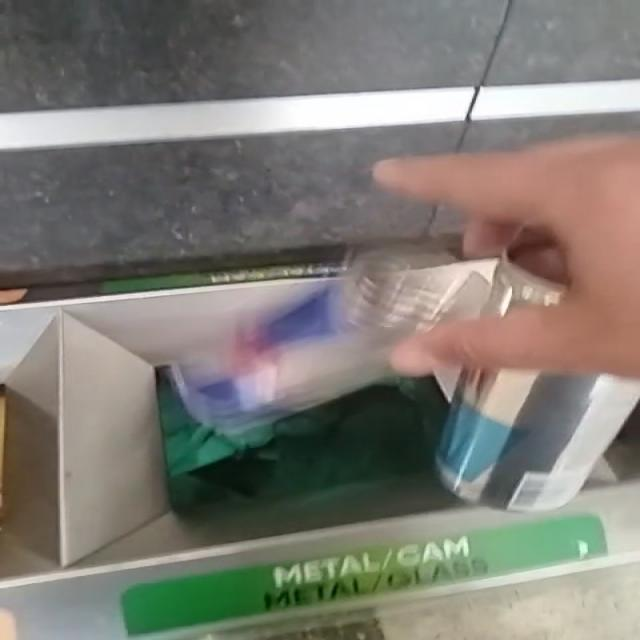metal: (172, 244, 501, 440)
